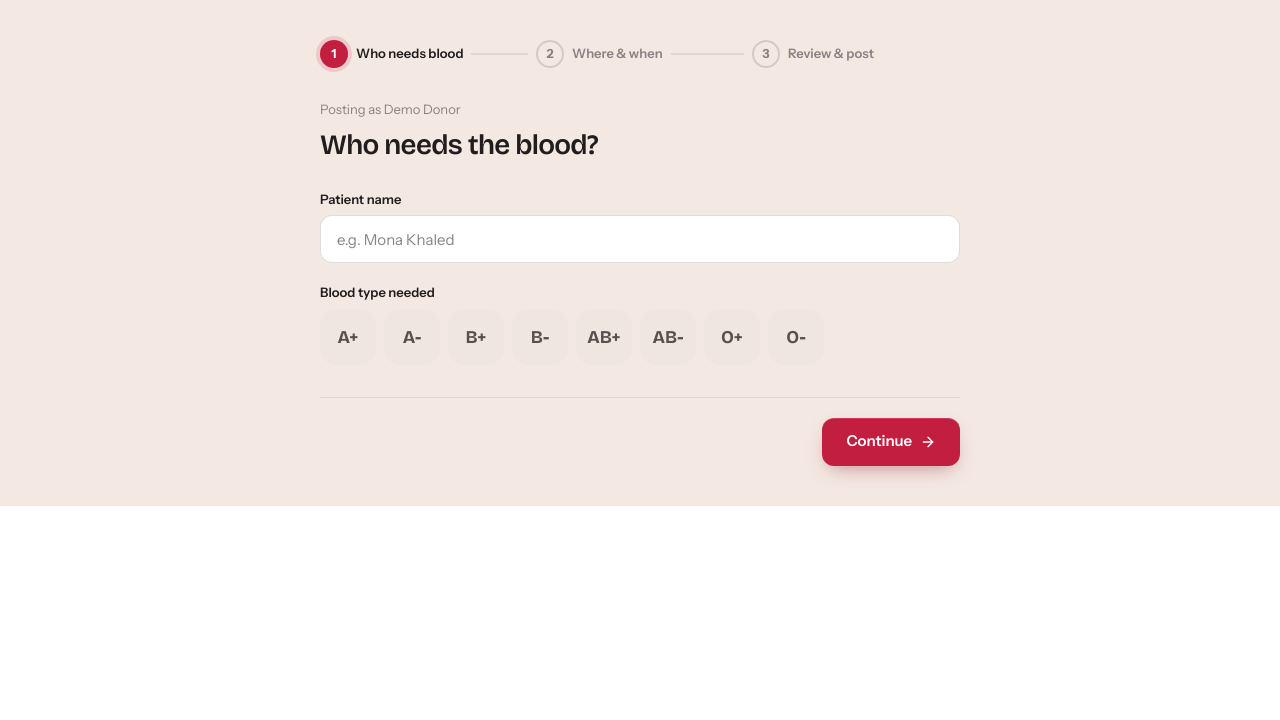
Scenario: CreateDonationRequest › blocks advancing and shows validation errors when step-one fields are empty
This screenshot has width=1280, height=720.
Click the button "Continue" at point(891, 442), box [822,418,960,466]
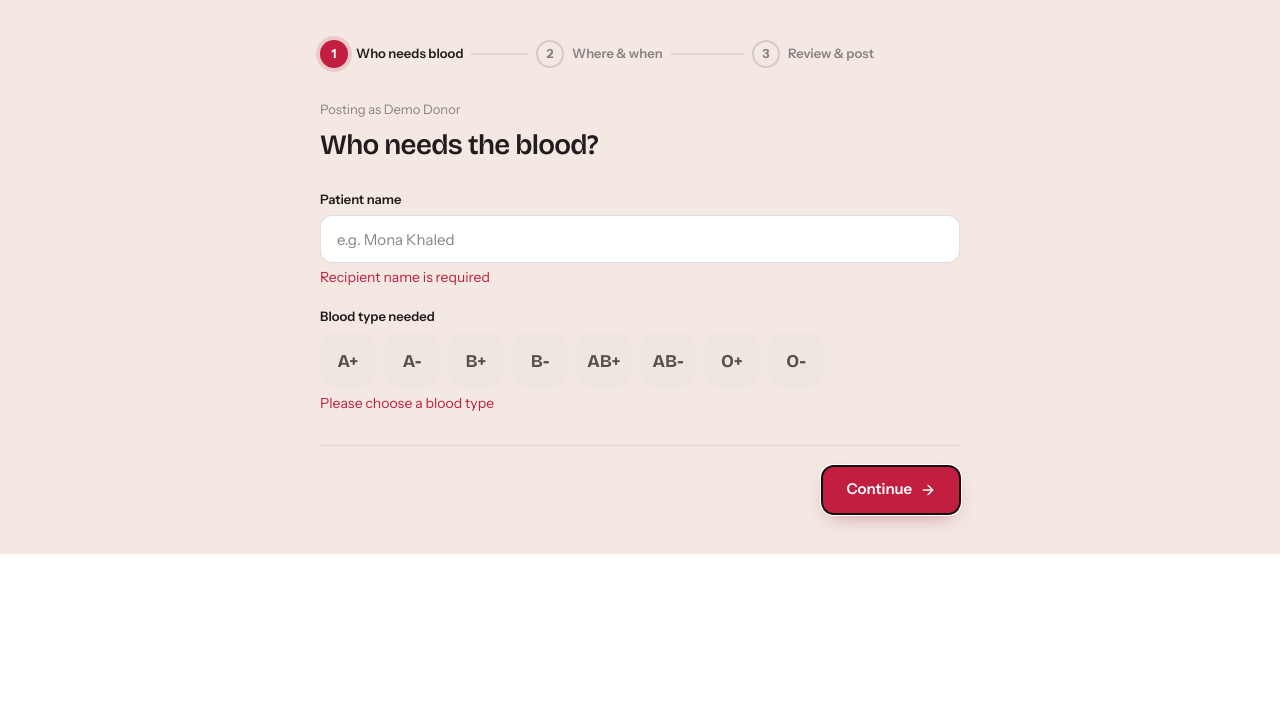
Expected: the text "Recipient name is required" is shown, [320,268,490,286]
